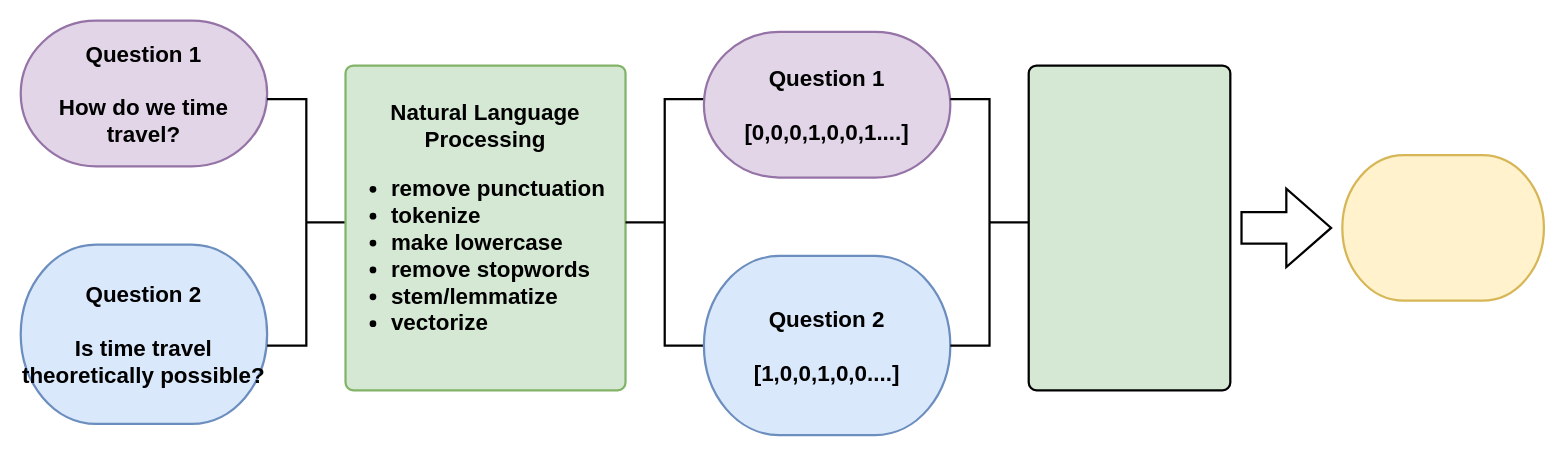
The diagram is 1564 pixels wide and 455 high, and some of its shapes have lost their labels. The shapes that lost their labels are listed below. From the top down, each one's box as (x1, y1, x2, y2) in pixels, then its label:
(1027, 64, 1231, 391): Classification Model
(1341, 153, 1544, 301): DUPLICATE
